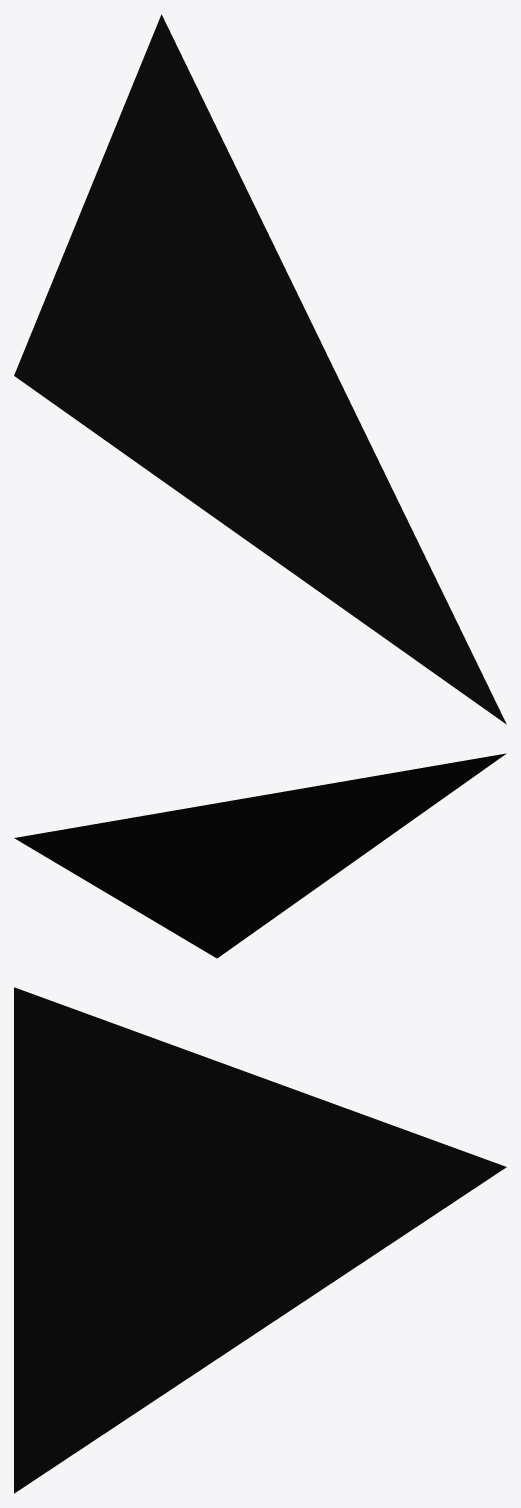
3 renders of one model, top to bottom at view 1: azimuth 30°, elevation 25°; view 2: azimuth 150°, elevation 25°; view 3: azimuth 270°, elevation 25°, orthographic. The views are drawn at different scales.
Bounding box in the file's own units: 0.4072 × 0.3704 × 0.4942.
1 material, 1 textured.
